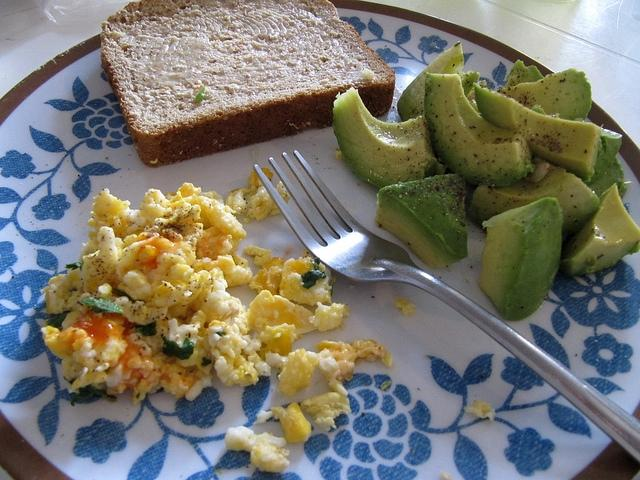avocado: (330, 66, 592, 190), (472, 80, 622, 186), (468, 156, 601, 265), (424, 72, 536, 186), (478, 197, 562, 320), (376, 174, 470, 268), (559, 183, 640, 277), (397, 41, 465, 122), (590, 157, 624, 197), (504, 59, 544, 87)
